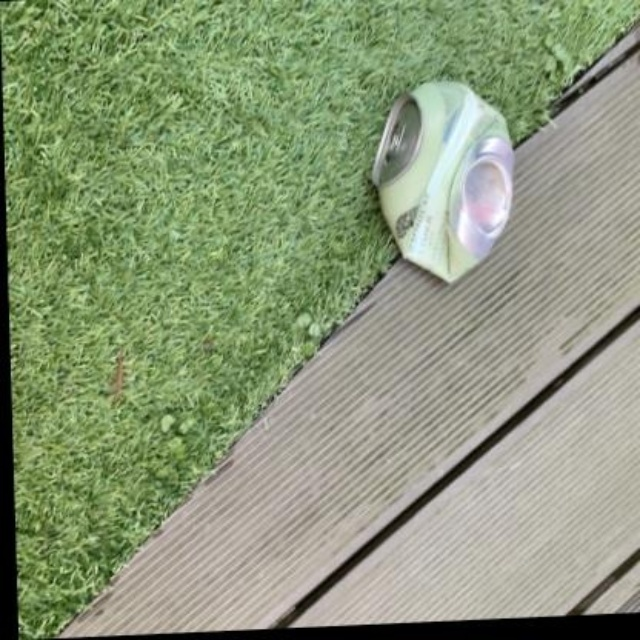trash: (372, 82, 512, 280)
